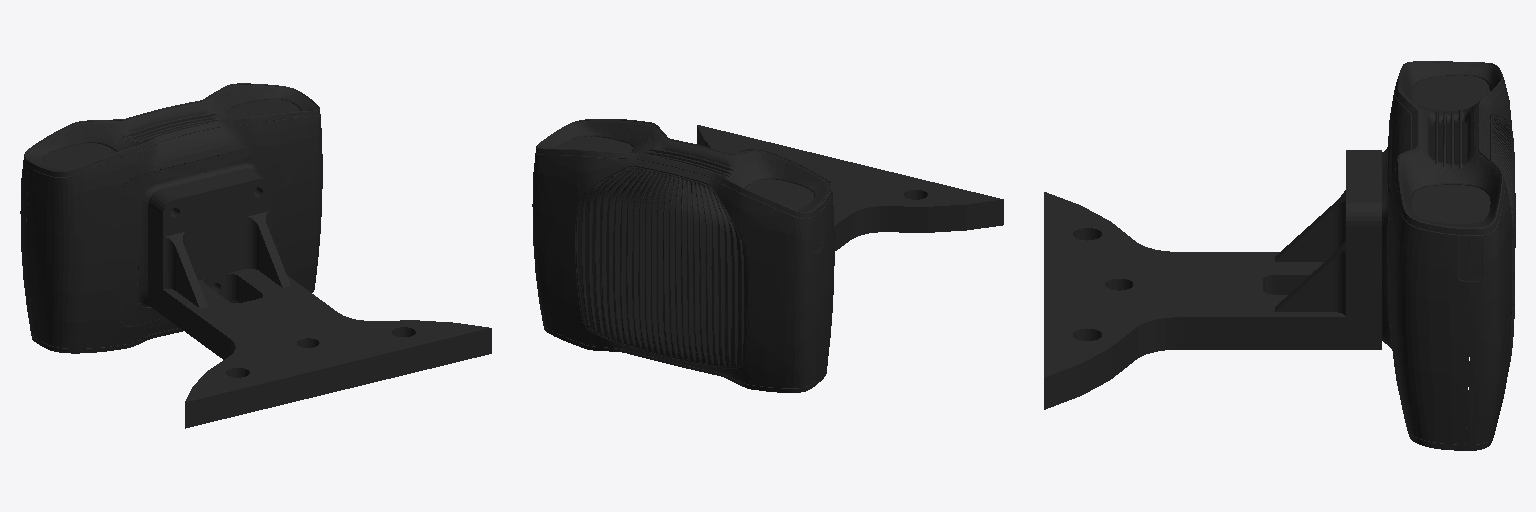
The robot description file, URDF, robot "camera":
<?xml version="1.0" ?>
<robot name="camera">
    <link name="baseLink">
        <contact>
          <lateral_friction value="1.0"/>
          <rolling_friction value="0.0"/>
          <contact_cfm value="0.0"/>
          <contact_erp value="1.0"/>
        </contact>
        <inertial>
          <origin rpy="-3.1415926535897932 0 0" xyz="0 0 0"/>
           <mass value="1.0"/>
           <inertia ixx="1" ixy="0" ixz="0" iyy="1" iyz="0" izz="1"/>
        </inertial>
        <visual>
          <origin rpy="0 0 0" xyz="0.0 0.0 0.0"/>
          <geometry>
              <mesh filename="tool_mesh/EE_Zivid_ams.stl" scale="0.001 0.001 0.001"/>
          </geometry>
           <material name="white">
            <color rgba="0.2 0.2 0.2 1"/>
          </material>
        </visual>
    </link>
    <joint name="camera_trafo" type="fixed">
        <parent link="baseLink"/>
        <child link="camera_frame"/>
        <origin xyz="0.05584 0.23981 0.05552" rpy="0 0 0"/>
    </joint>

    <link name="camera_frame">
	</link>
</robot>

--- Facts derived from the render (not from the file) ---
The picture shows the robot from 3 angles, left to right: view 1: azimuth 30°, elevation 25°; view 2: azimuth 150°, elevation 25°; view 3: azimuth 270°, elevation 25°; orthographic projection.
Model camera with 2 links and 1 joints (1 fixed), rooted at baseLink, posed every joint at zero.
Links seen in each view (by area): view 1: baseLink; view 2: baseLink; view 3: baseLink.
Link boxes in pixels (x1,y1,x2,y2): baseLink: (20,83,491,428); baseLink: (532,119,1003,392); baseLink: (1044,61,1515,450).
Size in the robot's own frame: 0.1846 by 0.1977 by 0.1209 metres.
1 mesh visuals loaded from 1 distinct referenced files (1 binary STL).